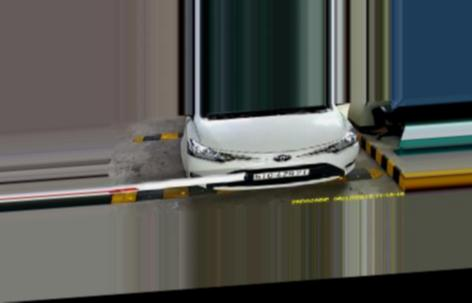License_Plate: (252, 165, 309, 181)
